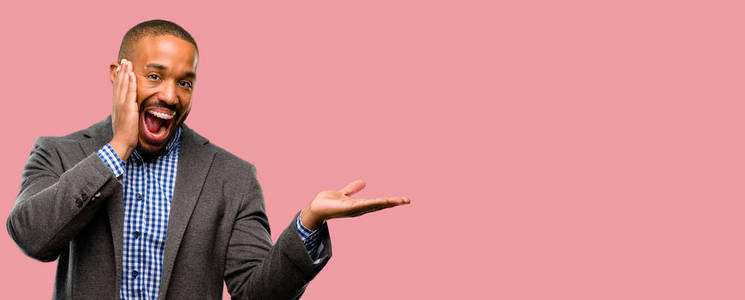no-phone: (310, 177, 413, 221)
